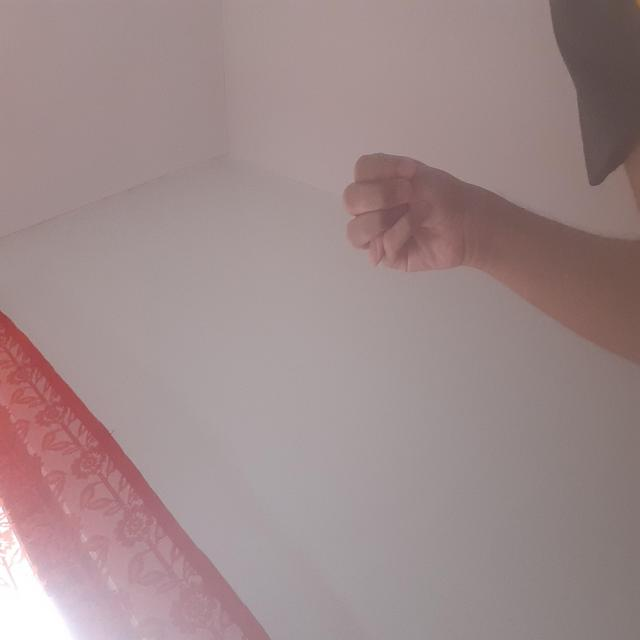M: (329, 123, 474, 303)
